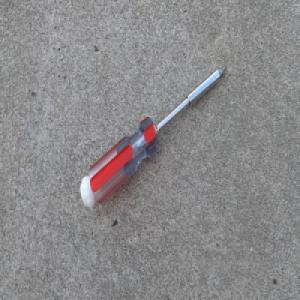Screwdriver: (78, 63, 229, 211)
